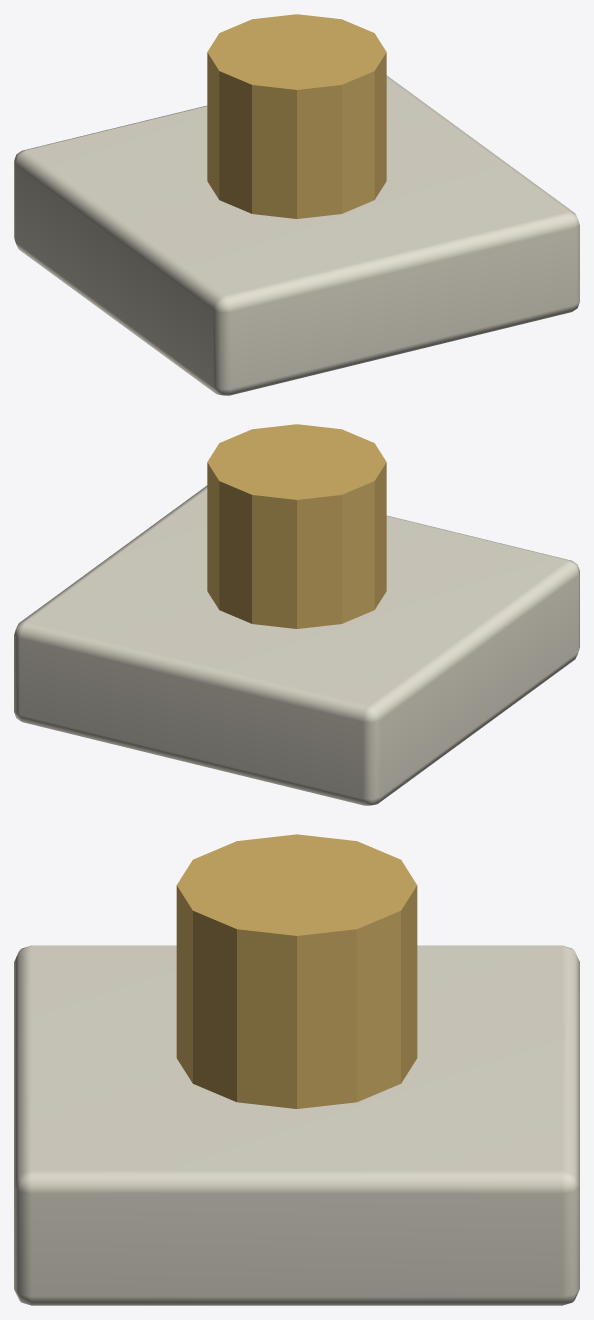
The model's file is hf-sukhbaatar-monument-study.glb.
3 views of the same model, one above another, from view 1: azimuth 30°, elevation 25°; view 2: azimuth 150°, elevation 25°; view 3: azimuth 270°, elevation 25° (orthographic). The views are drawn at different scales.
Visible parts, largest first — view 1: SQUARE_MONUMENT_BASE, MONUMENT_COLUMN; view 2: SQUARE_MONUMENT_BASE, MONUMENT_COLUMN; view 3: SQUARE_MONUMENT_BASE, MONUMENT_COLUMN.
Boxes of the visible parts, x1=… form: SQUARE_MONUMENT_BASE: x1=14, y1=75, x2=579, y2=395; MONUMENT_COLUMN: x1=207, y1=14, x2=386, y2=218; SQUARE_MONUMENT_BASE: x1=14, y1=485, x2=579, y2=805; MONUMENT_COLUMN: x1=207, y1=424, x2=386, y2=628; SQUARE_MONUMENT_BASE: x1=14, y1=945, x2=579, y2=1305; MONUMENT_COLUMN: x1=176, y1=834, x2=417, y2=1108.
Size of the model in its own units: 8 by 4.8 by 8.
